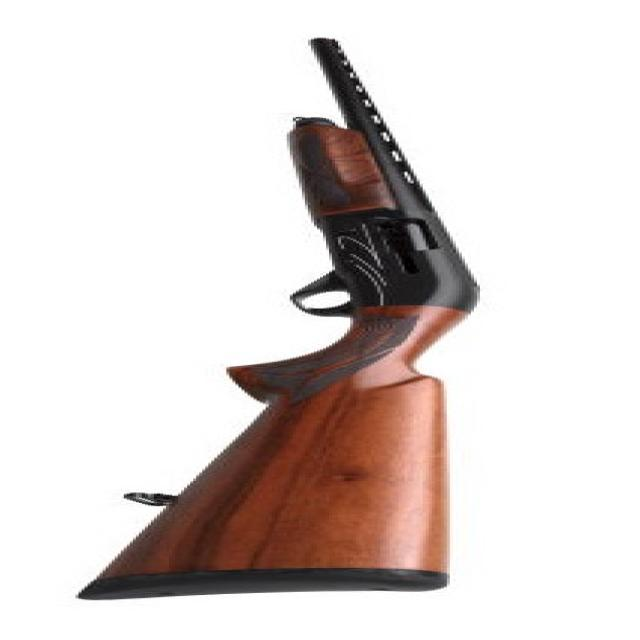rifle: (61, 35, 495, 608)
